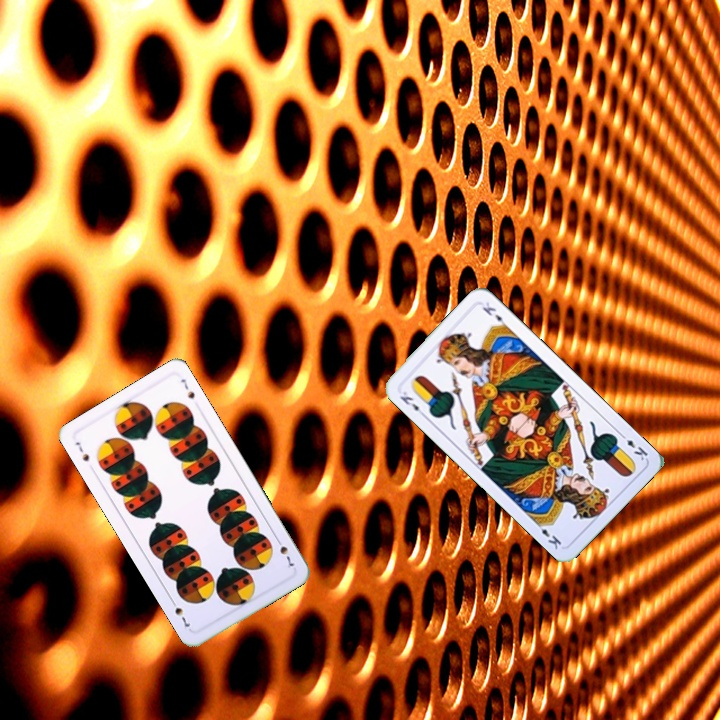EK: (616, 429, 650, 463), (396, 387, 428, 419)
S7: (272, 534, 296, 571), (71, 437, 92, 464)
